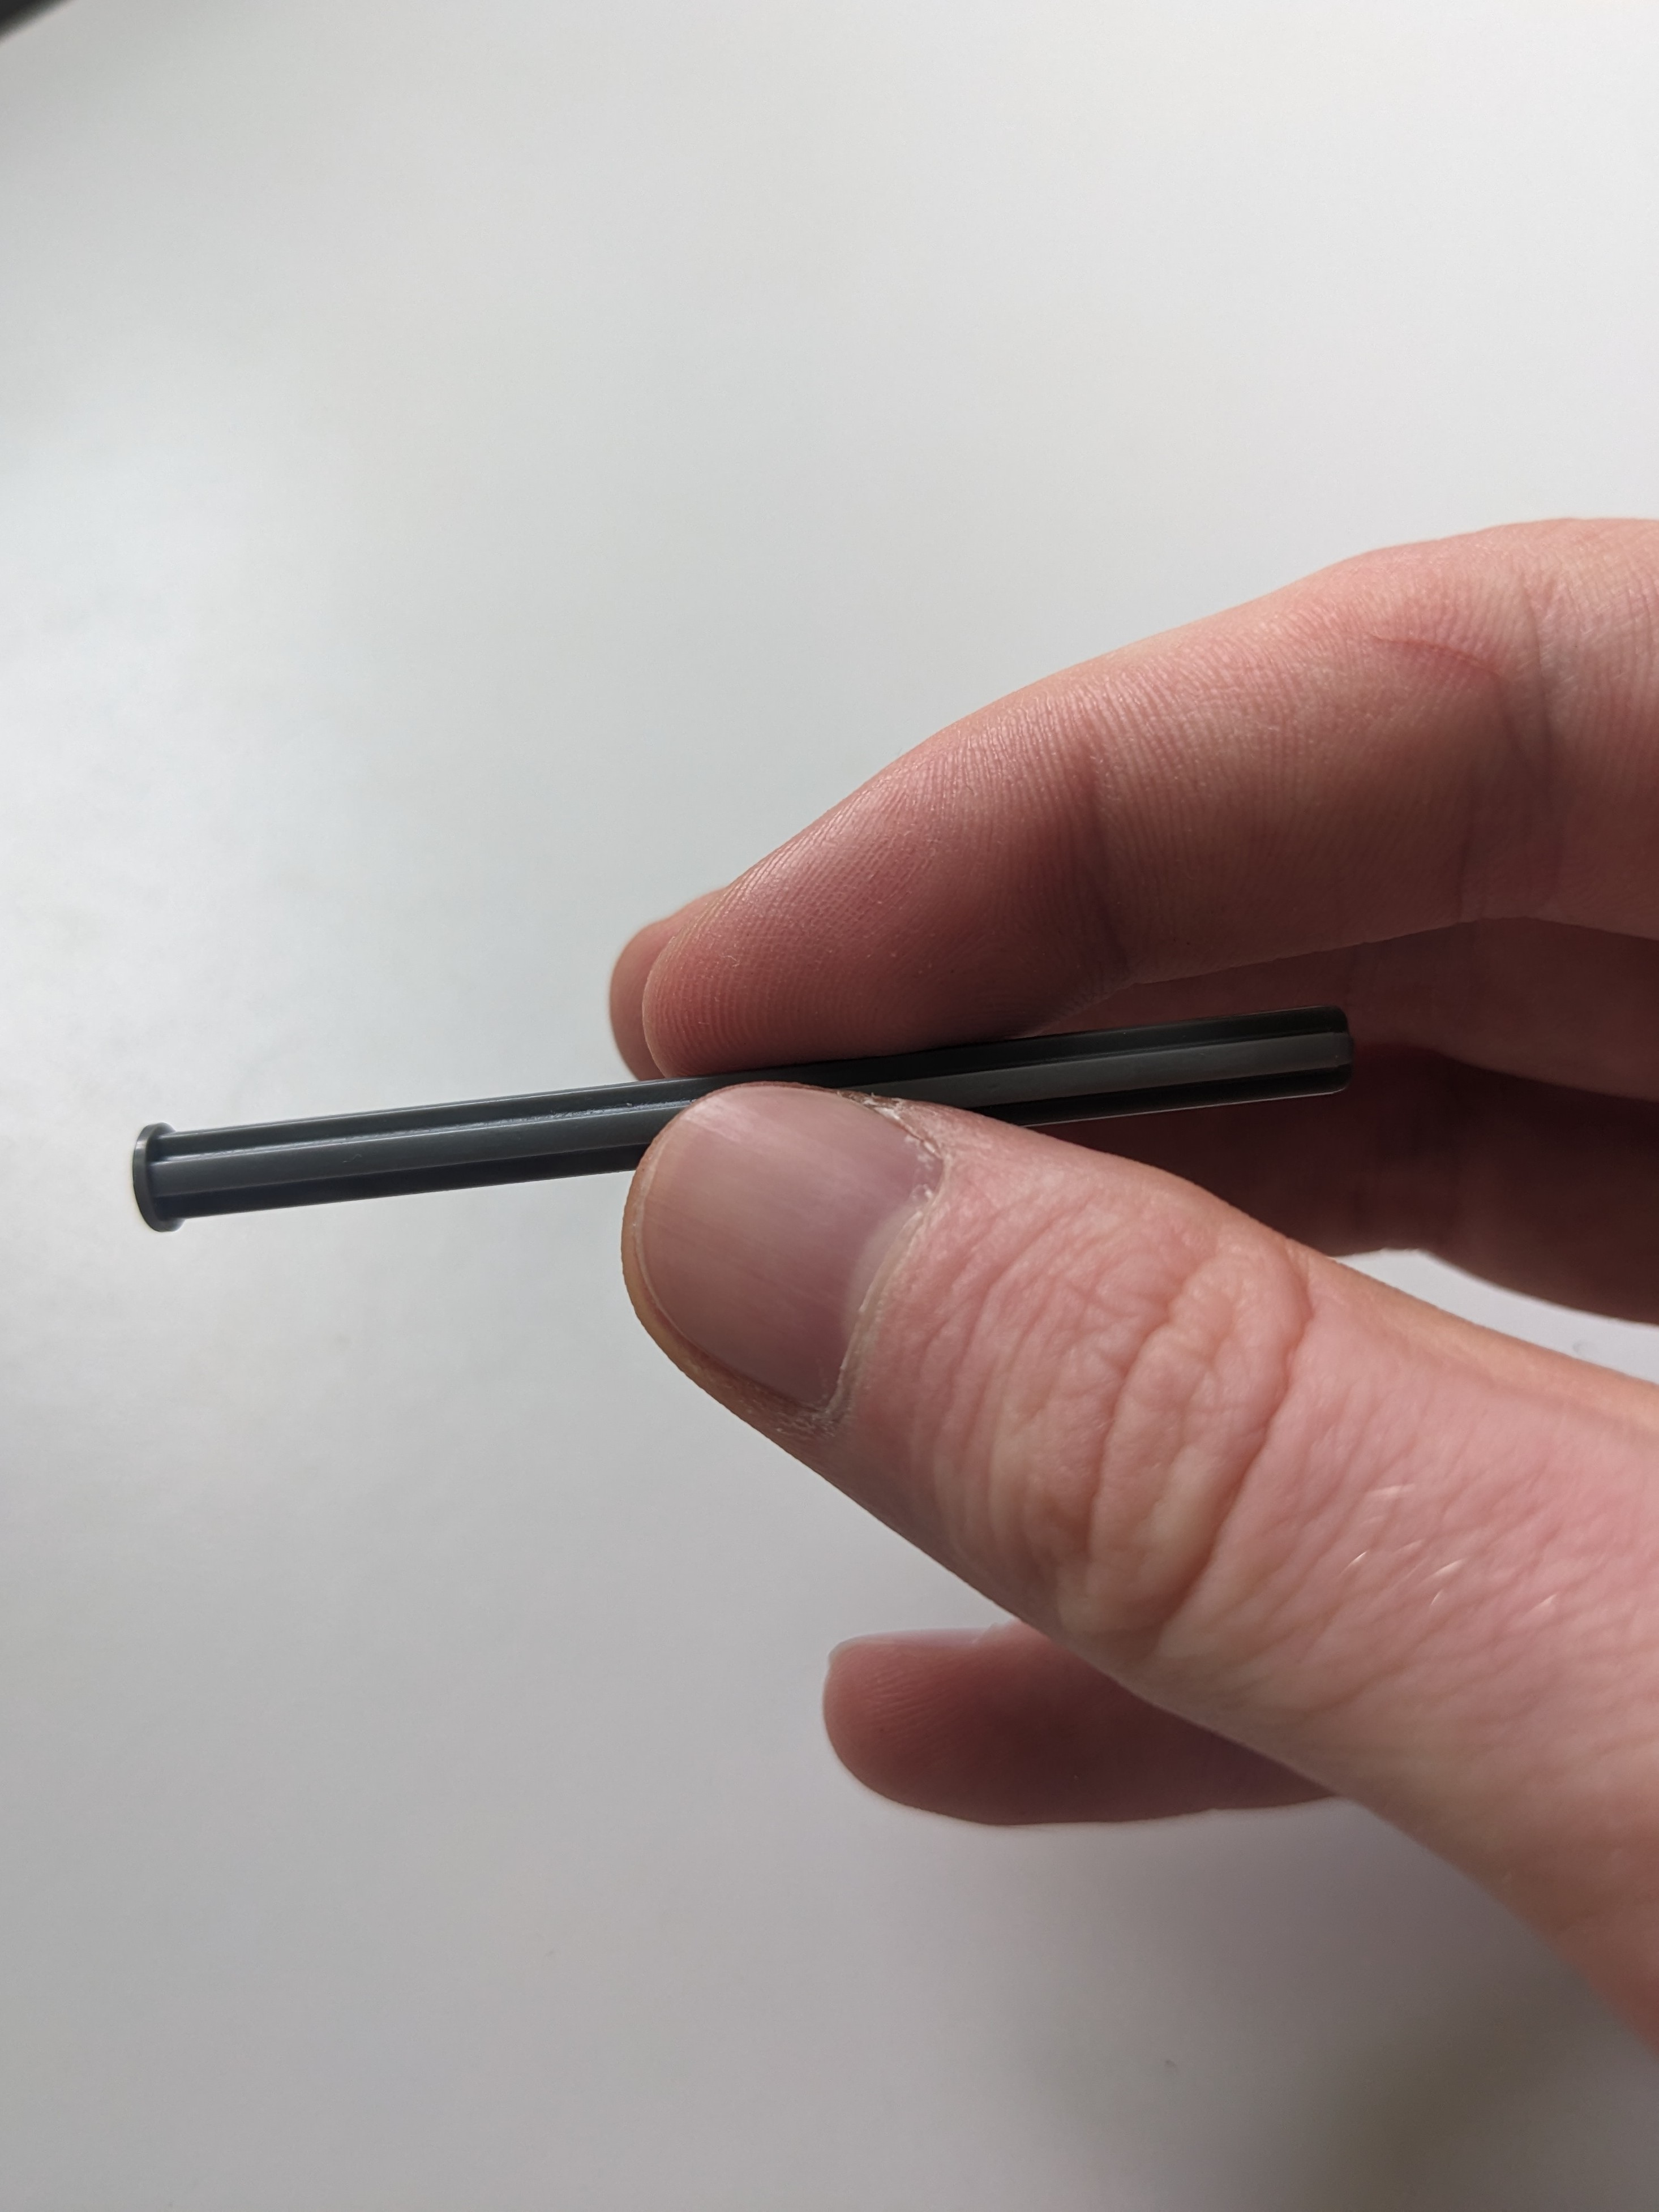Grau_lang: (117, 984, 1391, 1256)
